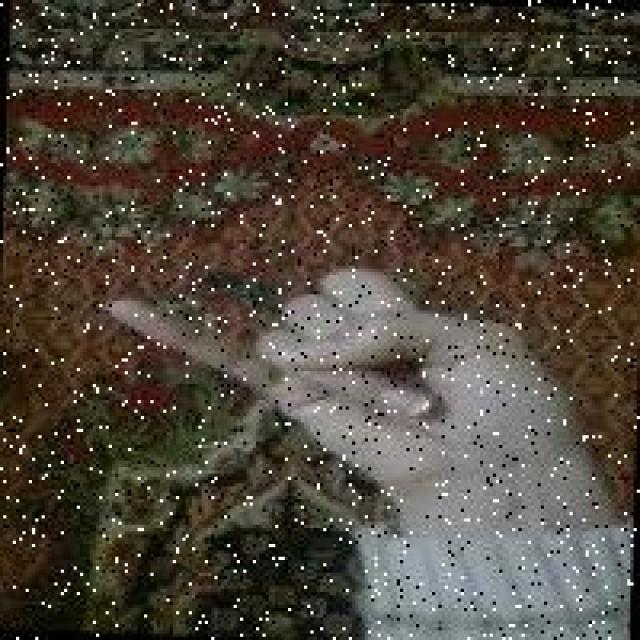J: (86, 251, 592, 491)
